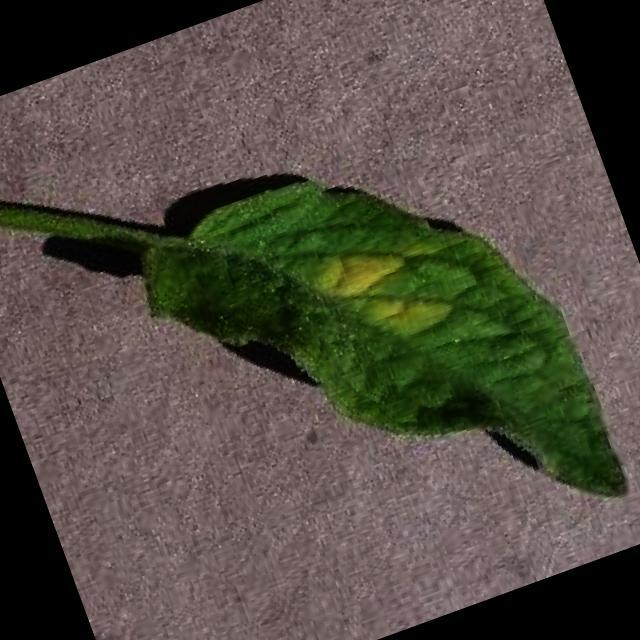Tomato mold leaf: (120, 104, 632, 628)
